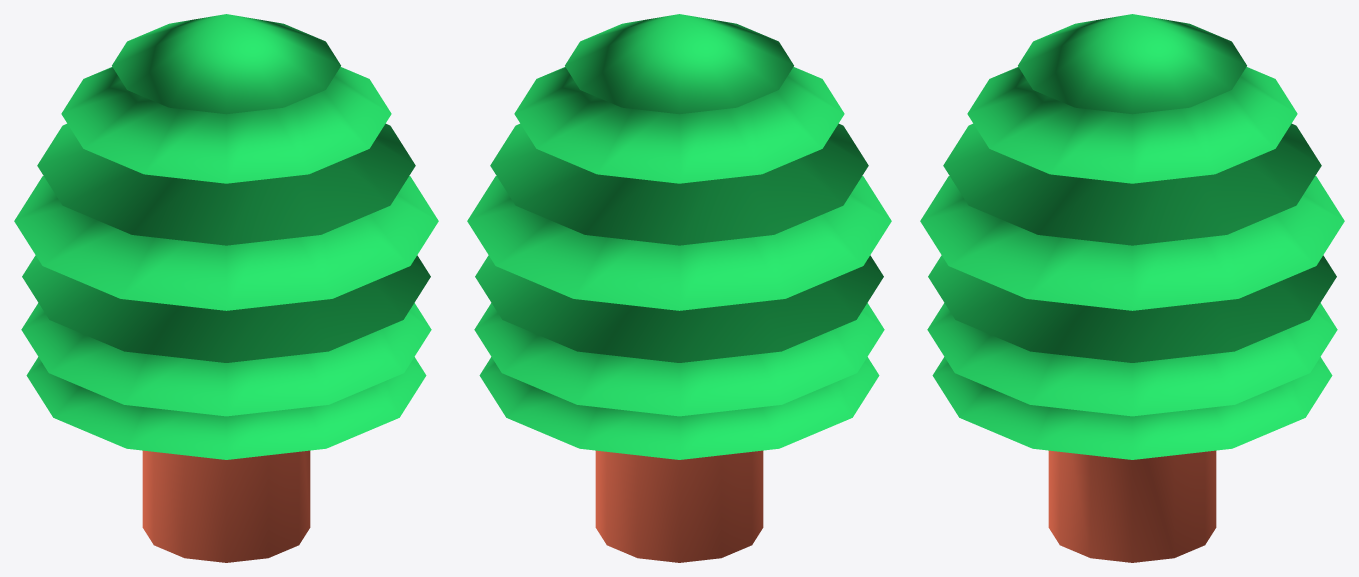
File: tree2.glb
3 renders of one model, left to right at view 1: azimuth 30°, elevation 25°; view 2: azimuth 150°, elevation 25°; view 3: azimuth 270°, elevation 25°, orthographic.
Visible parts, largest first — view 1: Cylinder; view 2: Cylinder; view 3: Cylinder.
Part boxes in pixels (x1,y1,x2,y2): Cylinder: (14, 14, 438, 562); Cylinder: (467, 14, 891, 562); Cylinder: (920, 14, 1344, 562).
Bounding box in the file's own units: 5.06 × 6.76 × 5.06.
